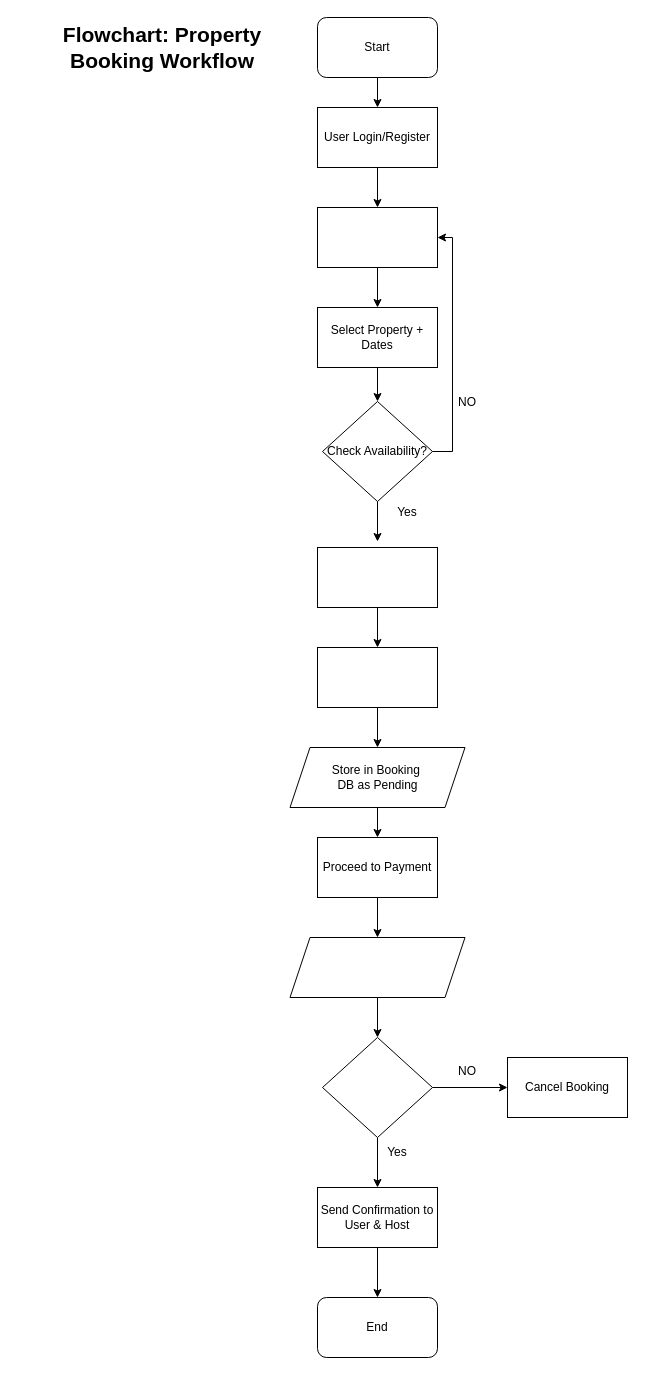
Some shapes in this 645 by 1375 pixel diagram are drawn without their labels. The shapes that lost their labels are listed below. From the top down, each one's centre as x and y in pixels, then its label:
At [377,237]: "Search Property".
At [377,577]: "Calculate Total Cost".
At [377,677]: "Confirm Booking".
At [377,967]: "Send Request to Payment Gateway".
At [377,1087]: "Payment Successful?".
